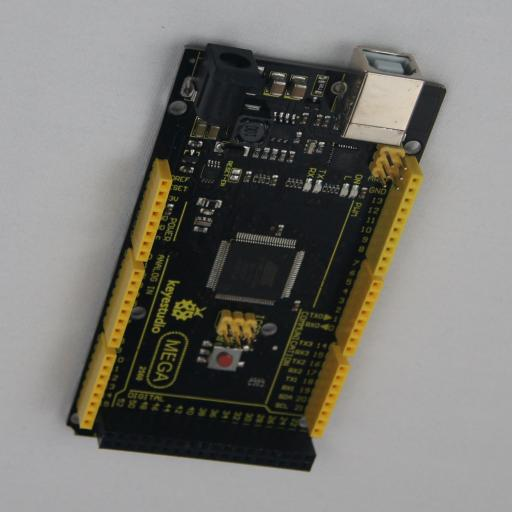Arduino Mega 2560 -Black and Yellow-: (66, 42, 446, 472)
